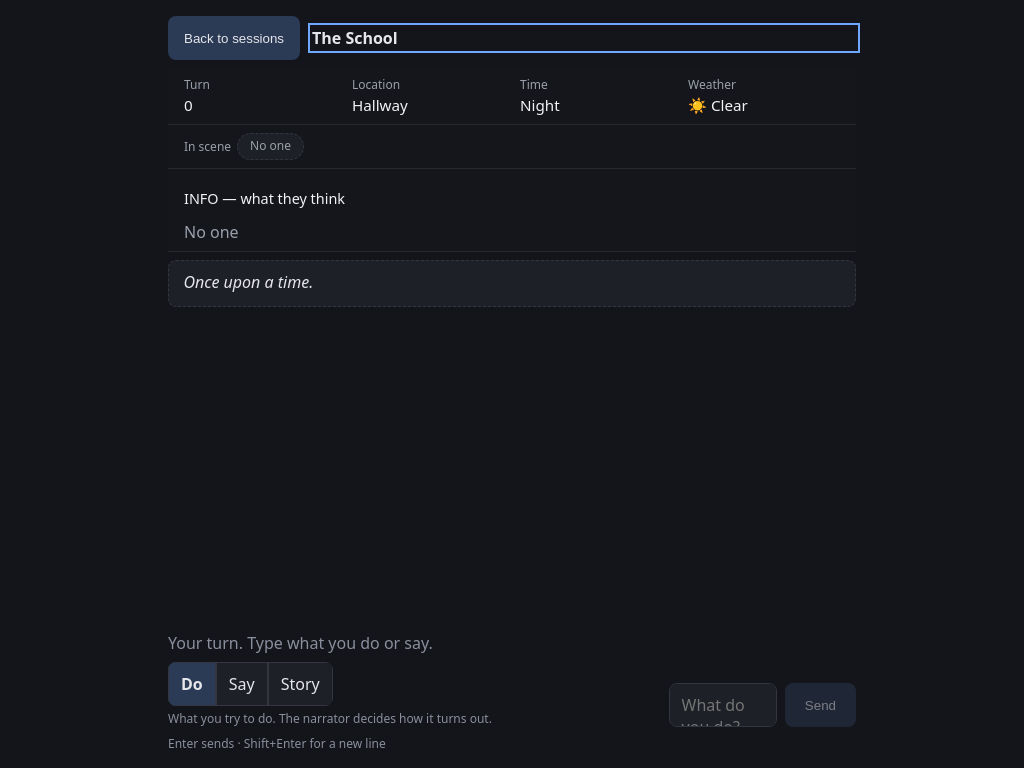
GameScreen turns › plays a happy turn: optimistic player line, streaming deltas, hud update on [DONE]
The width and height of the screenshot is (1024, 768).
Expected: the text "Once upon a time." is shown, [183, 271, 313, 293]
Step 1. Type "I open the door." into the text box named "Your action" → (723, 705), box [668, 683, 777, 727]
Then press Enter
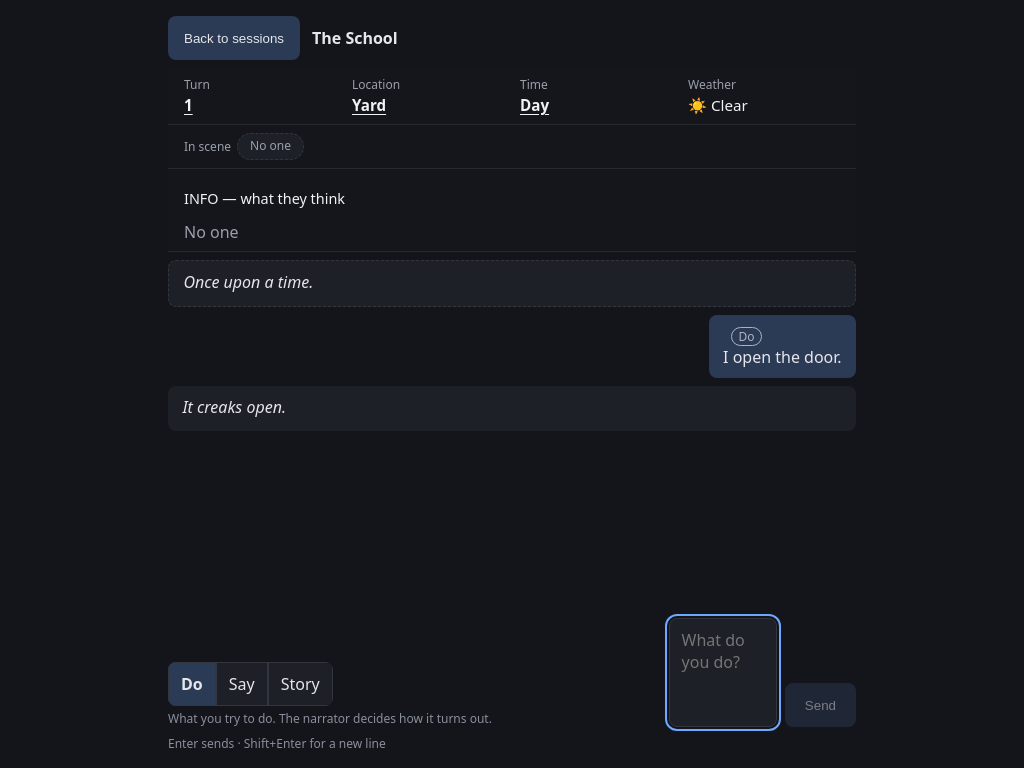
Now the text "I open the door." is shown, box [723, 346, 842, 368]
Now the text "It creaks open." is shown, box [182, 396, 286, 418]
Now the text "Yard" is shown, box [352, 95, 386, 115]
